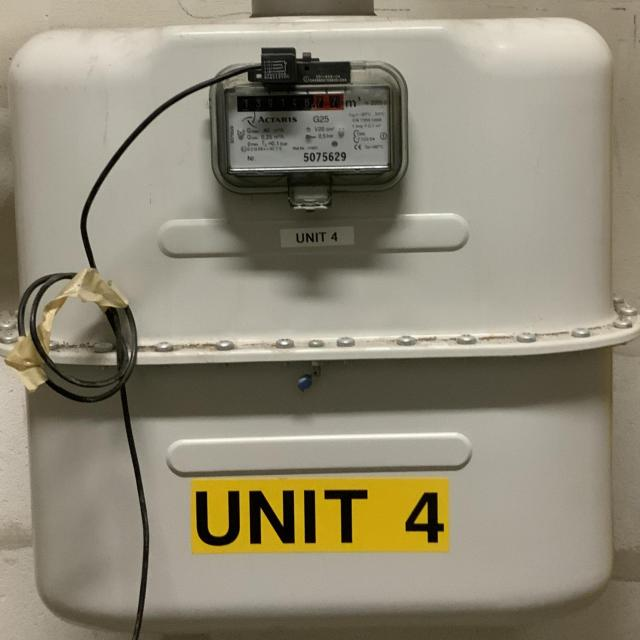gaz_meter: (223, 83, 395, 167)
indication: (236, 93, 345, 112)
